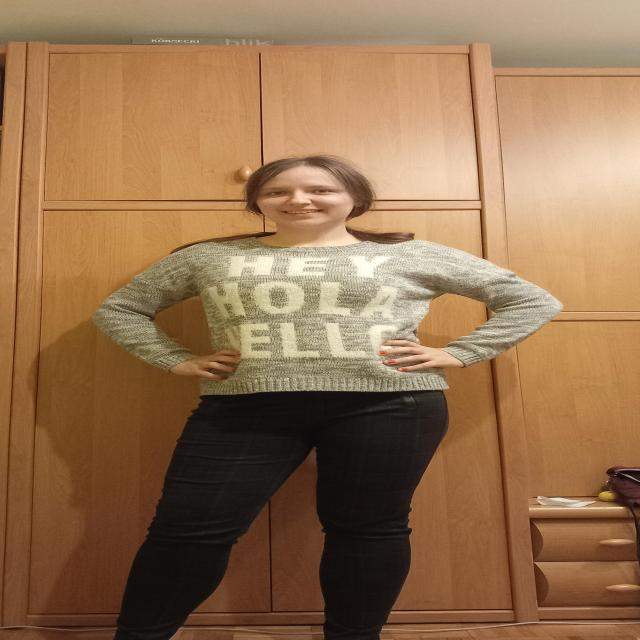pants: (114, 390, 448, 640)
sweater: (91, 236, 564, 396)
